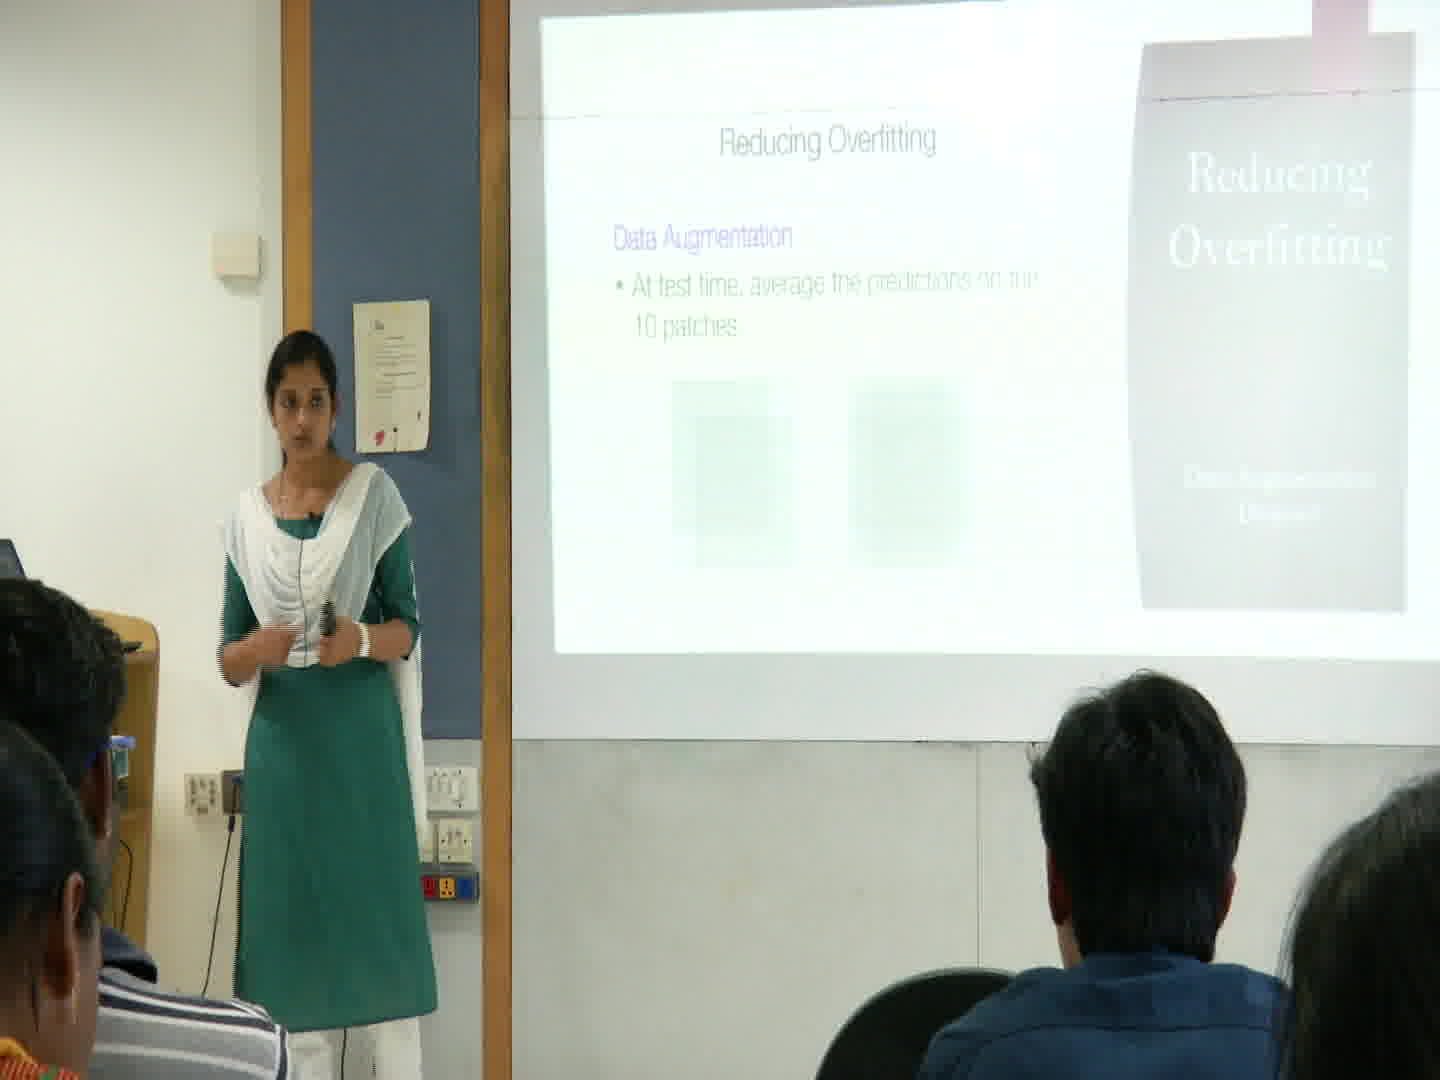slide: (542, 2, 1440, 658)
